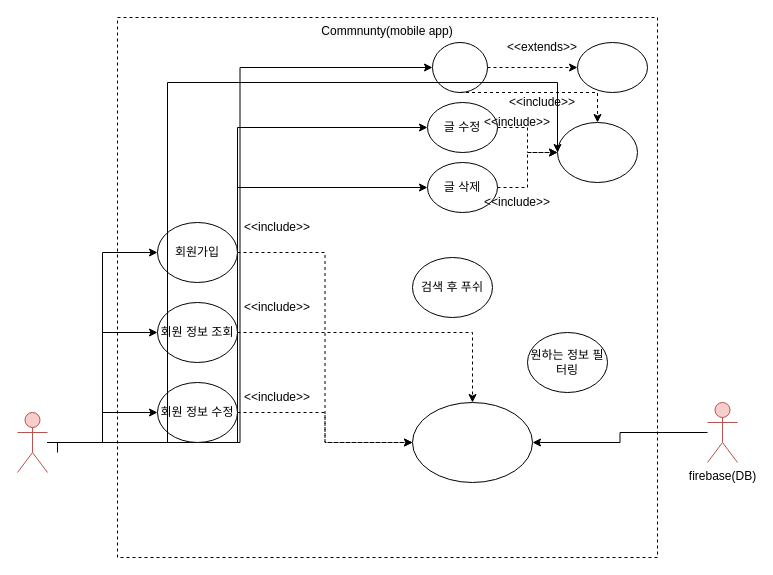
Some shapes in this 773 by 575 pixel diagram are drawn without their labels. Each missing label, with the box of its shape:
user: (16, 412, 48, 472)
글 쓰기: (432, 42, 488, 92)
로그인: (556, 122, 638, 182)
본인확인: (412, 402, 532, 482)
사진 업로드: (576, 42, 648, 92)
